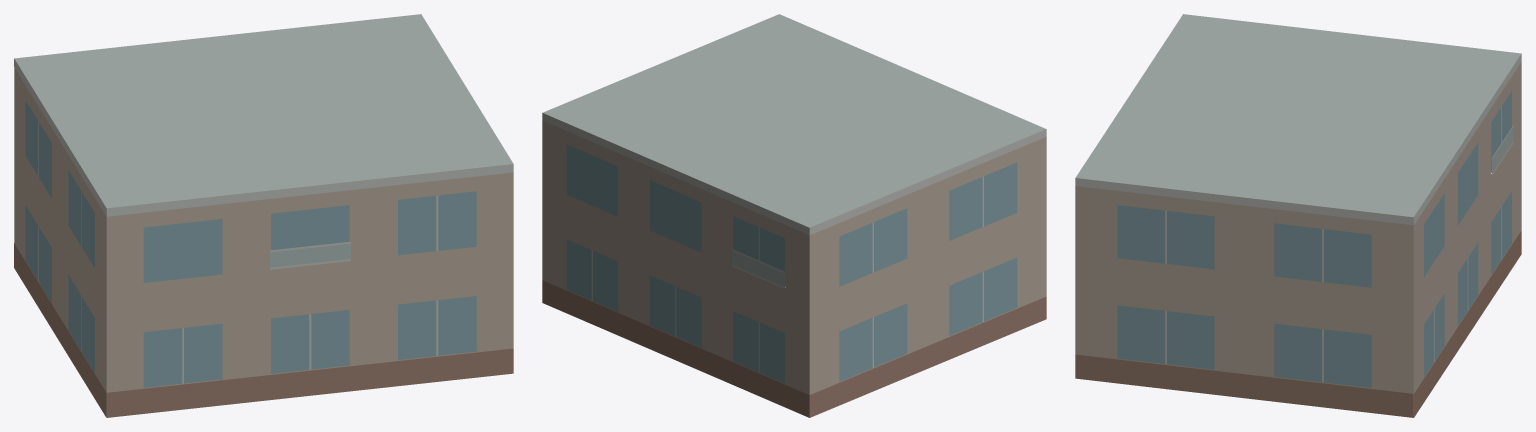
File: survey-upis-32805268.glb
3 renders of one model, left to right at view 1: azimuth 30°, elevation 25°; view 2: azimuth 150°, elevation 25°; view 3: azimuth 270°, elevation 25°, orthographic. The views are drawn at different scales.
Parts seen in each view (by area): view 1: survey-upis-32805268.tmp; view 2: survey-upis-32805268.tmp; view 3: survey-upis-32805268.tmp.
Part boxes in pixels (box(x1,y1,x2,y2)): survey-upis-32805268.tmp: box(14, 14, 513, 417); survey-upis-32805268.tmp: box(542, 14, 1046, 417); survey-upis-32805268.tmp: box(1075, 14, 1521, 417).
Size of the model in its own units: 13.27 by 6.1 by 12.31.
